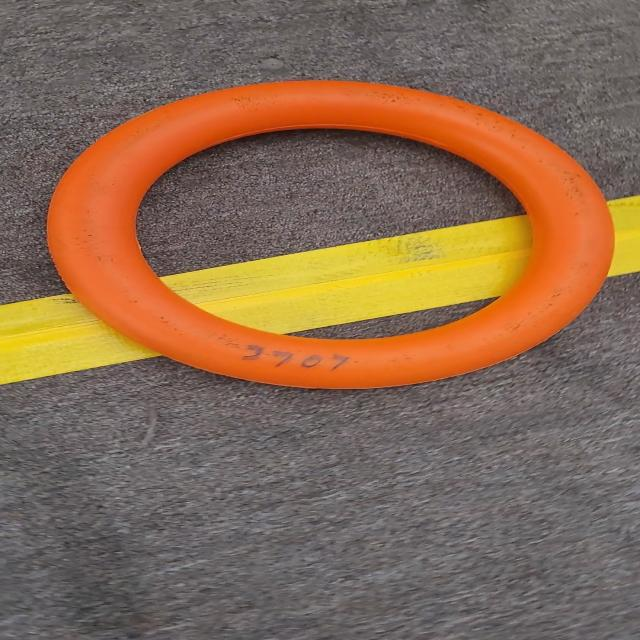note: (36, 74, 620, 396)
